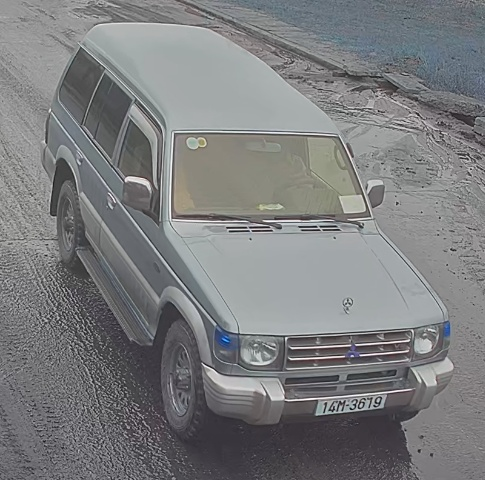vehicle plate: (308, 390, 395, 417)
